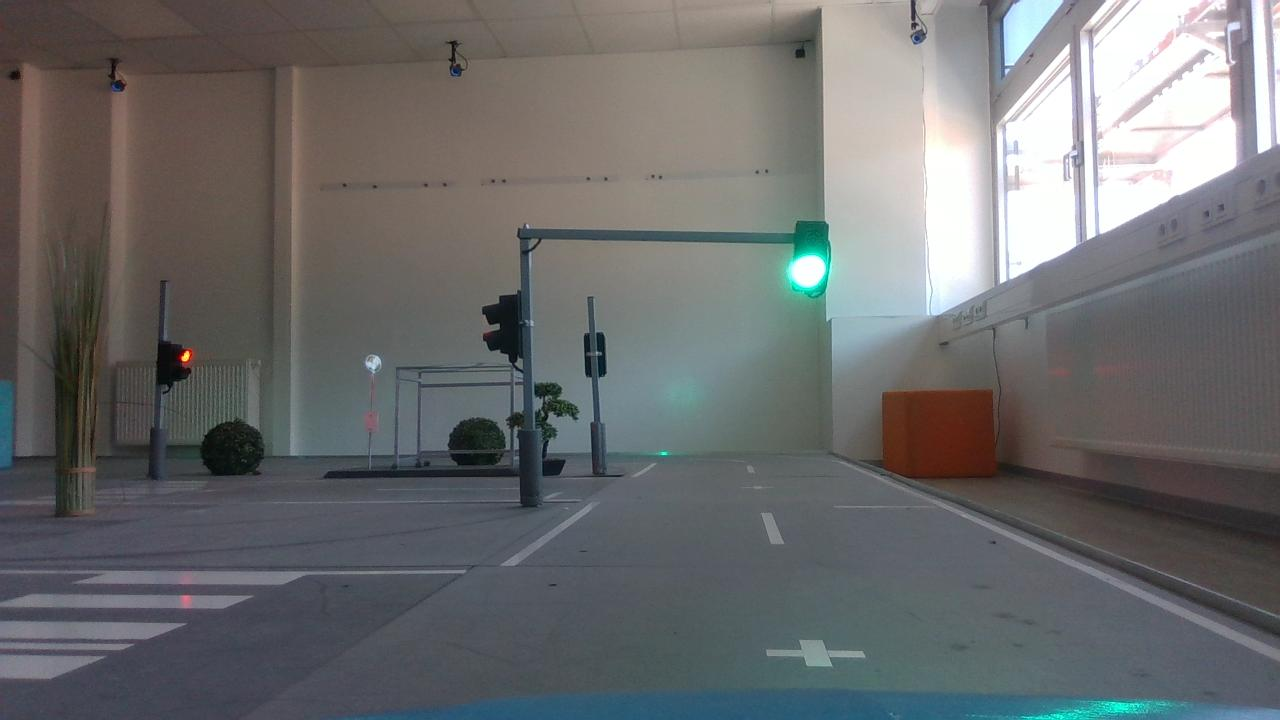traffic_light_green: (781, 198, 840, 309)
